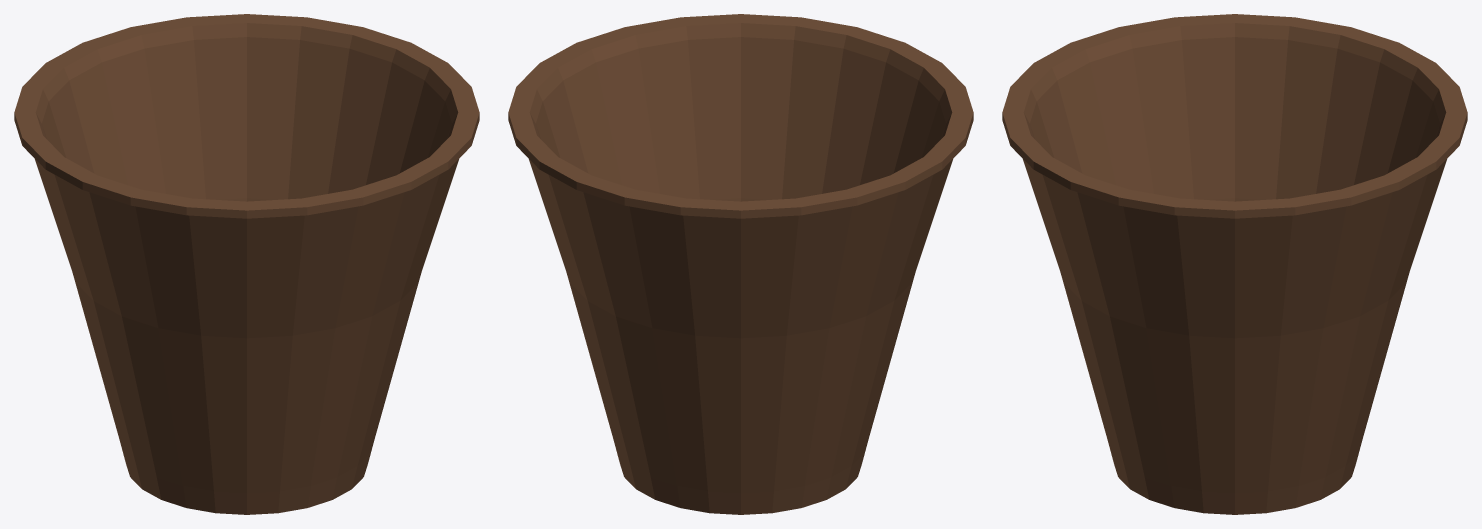
The model's file is vessel-deep.glb.
The picture shows the model from 3 angles, left to right: view 1: azimuth 30°, elevation 25°; view 2: azimuth 150°, elevation 25°; view 3: azimuth 270°, elevation 25°; orthographic projection.
Parts seen in each view (by area): view 1: vessel-deep/complete-inner-outer-shell-with-drainage; view 2: vessel-deep/complete-inner-outer-shell-with-drainage; view 3: vessel-deep/complete-inner-outer-shell-with-drainage.
Part boxes in pixels (x1,y1,x2,y2): vessel-deep/complete-inner-outer-shell-with-drainage: (14,14,479,514); vessel-deep/complete-inner-outer-shell-with-drainage: (508,14,973,514); vessel-deep/complete-inner-outer-shell-with-drainage: (1002,14,1467,514).
Bounding box in the file's own units: 0.5169 × 0.447 × 0.5169.
1 material, 1 textured.
